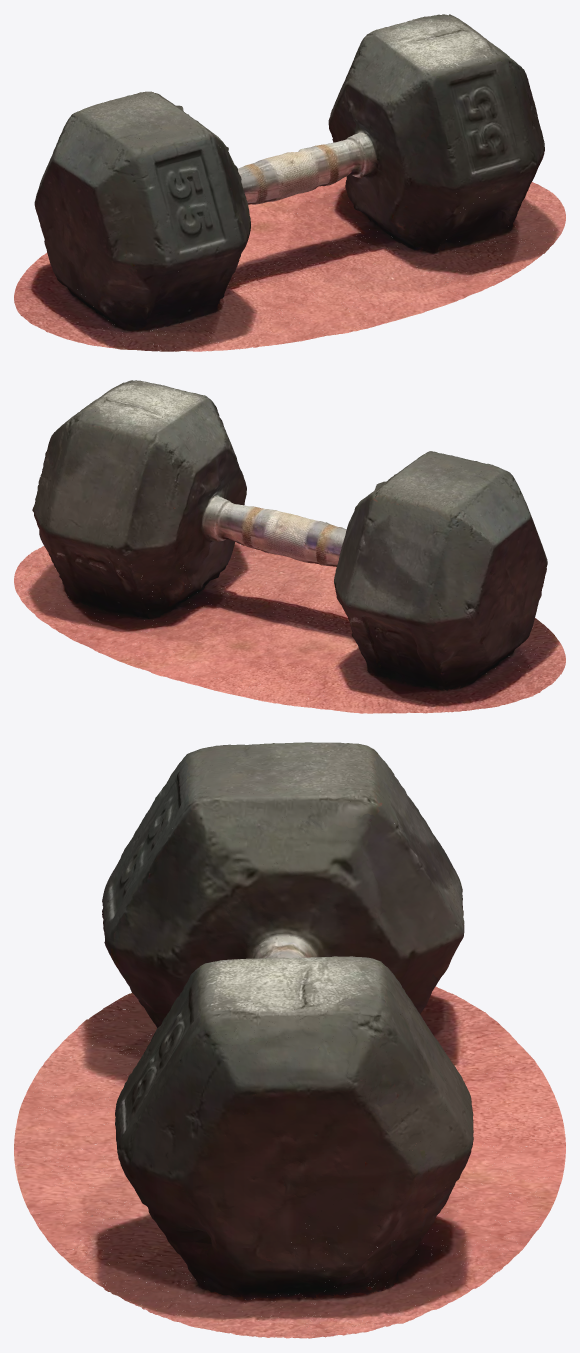
The model's file is dumbbell.glb.
The picture shows the model from 3 angles, top to bottom: view 1: azimuth 30°, elevation 25°; view 2: azimuth 150°, elevation 25°; view 3: azimuth 270°, elevation 25°; orthographic projection. The views are drawn at different scales.
Parts seen in each view (by area): view 1: Object_3, Object_2, Object_4; view 2: Object_2, Object_3, Object_4; view 3: Object_3, Object_2, Object_4.
Part boxes in pixels (bbox=[...]): Object_3: bbox=[17, 14, 565, 350]; Object_2: bbox=[14, 91, 565, 351]; Object_4: bbox=[44, 15, 562, 351]; Object_2: bbox=[100, 451, 565, 713]; Object_3: bbox=[14, 380, 565, 699]; Object_4: bbox=[14, 382, 557, 713]; Object_3: bbox=[14, 746, 541, 1338]; Object_2: bbox=[14, 742, 565, 1323]; Object_4: bbox=[14, 782, 565, 1338].
Size of the model in its own units: 0.4488 by 0.1535 by 0.2707.
1 material, 1 textured.
